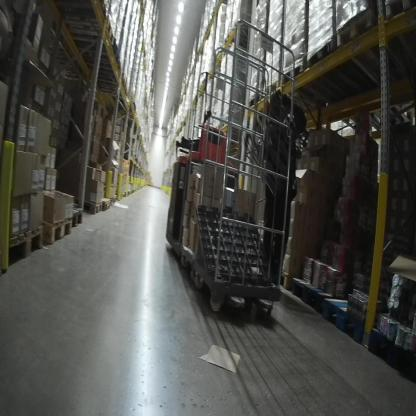pallets: (0, 207, 84, 274), (81, 197, 113, 217)
